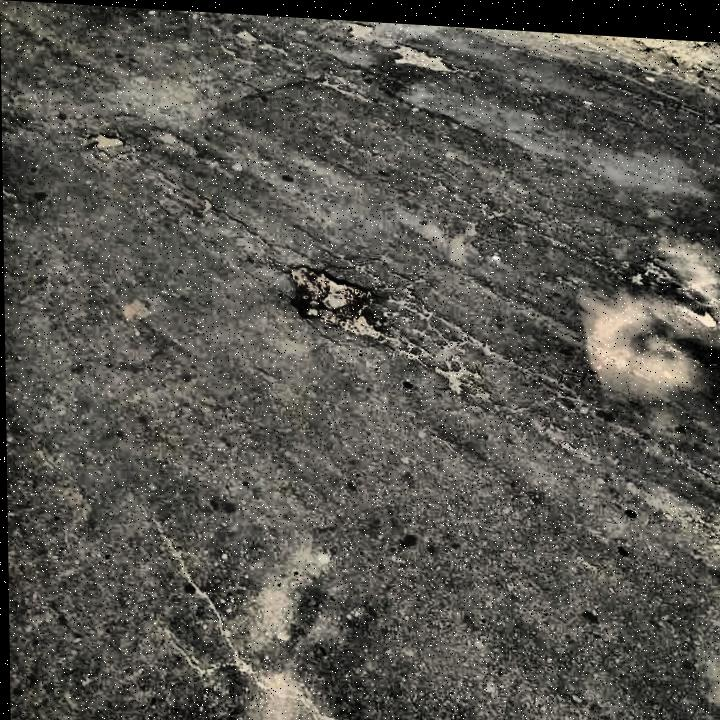pothole: (280, 258, 383, 339), (389, 35, 453, 68), (86, 128, 125, 150), (346, 16, 376, 36)
